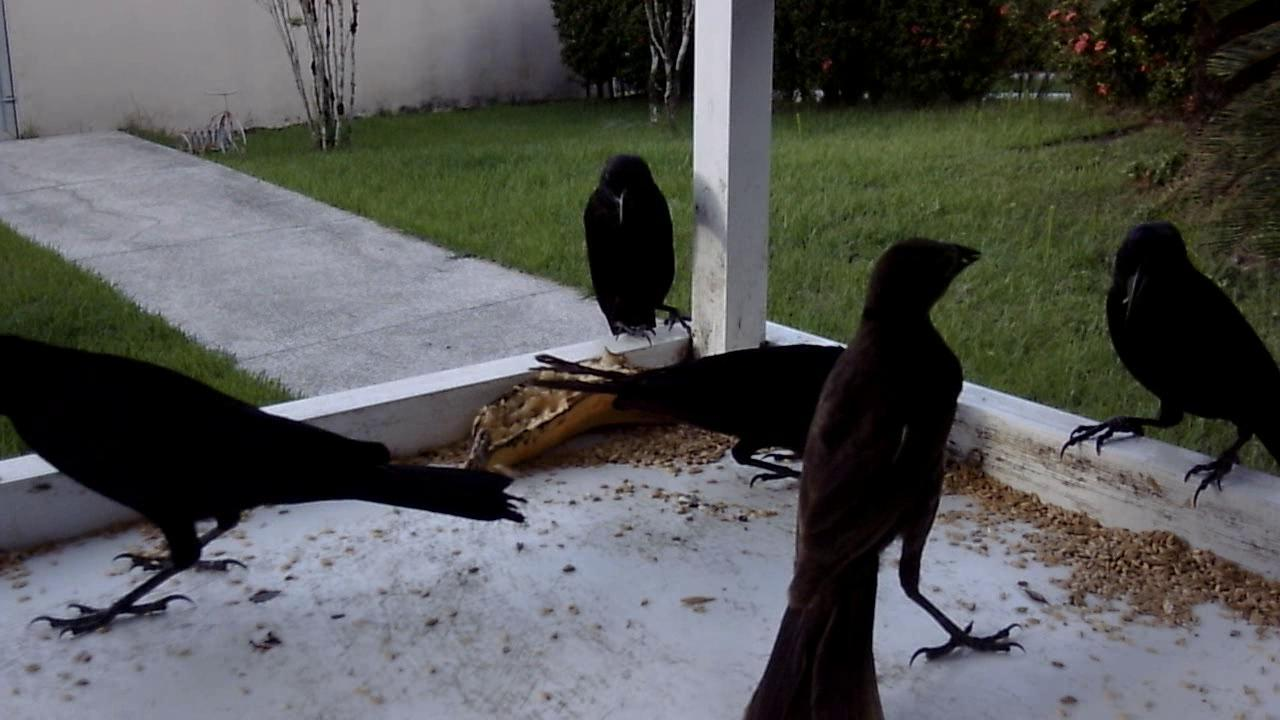chupim: (1, 289, 532, 653), (721, 230, 1024, 708), (493, 330, 859, 516), (1056, 215, 1276, 515), (573, 143, 695, 374)
